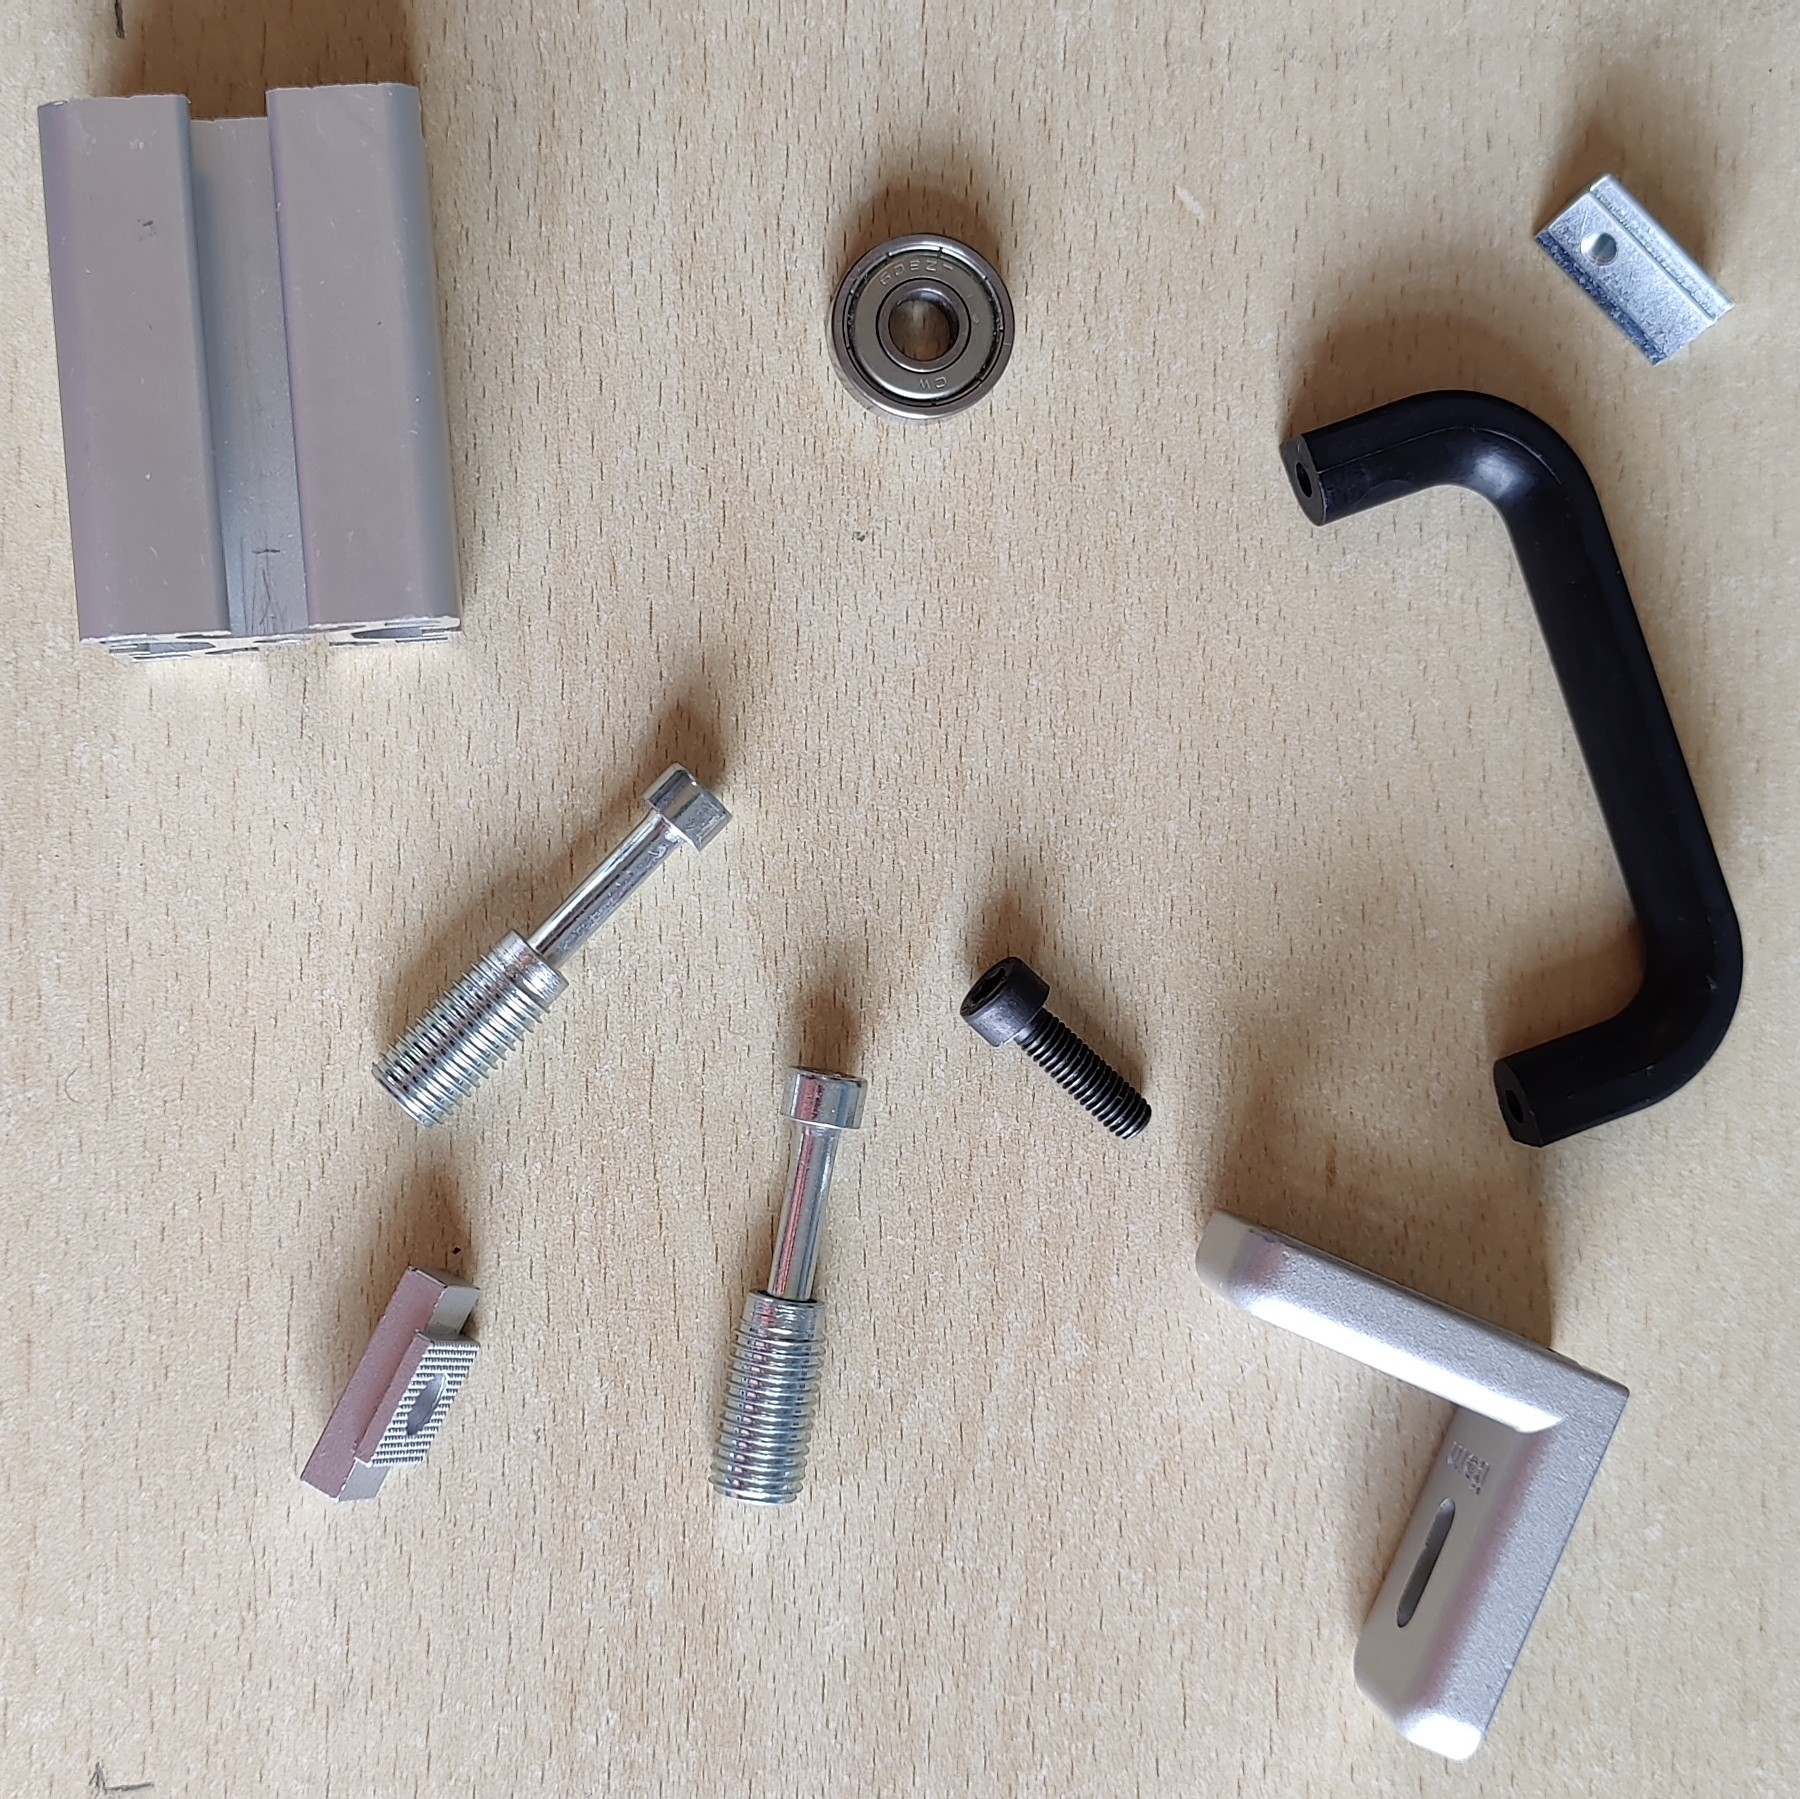Aluminium Extension: (35, 76, 469, 667)
Ball Bearing: (823, 226, 1018, 425)
Multiwinkel: (1192, 1204, 1632, 1764)
Pull Handle: (1276, 385, 1746, 1152)
Shoulder Socket Head Cap Screw: (366, 756, 736, 1130), (708, 1059, 871, 1507)
Socket Head Cap Screw: (958, 954, 1154, 1143)
T Nut Square: (300, 1260, 486, 1504)
T Spring Nut: (1528, 168, 1742, 371)
